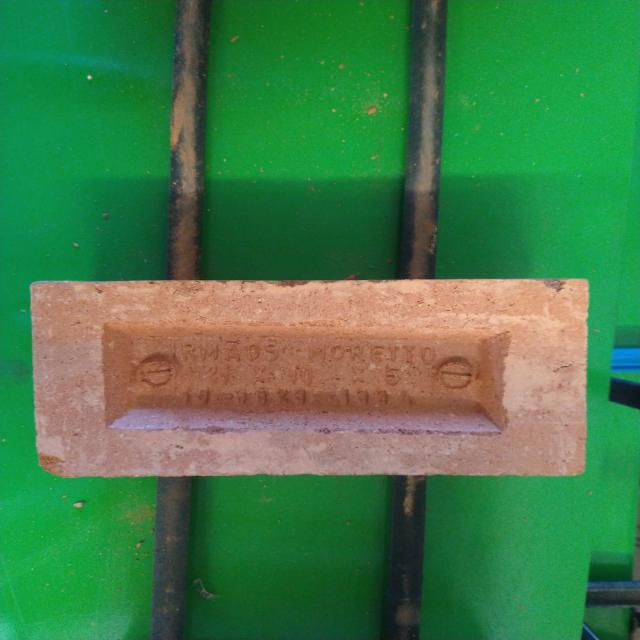bricks: (31, 281, 583, 479)
